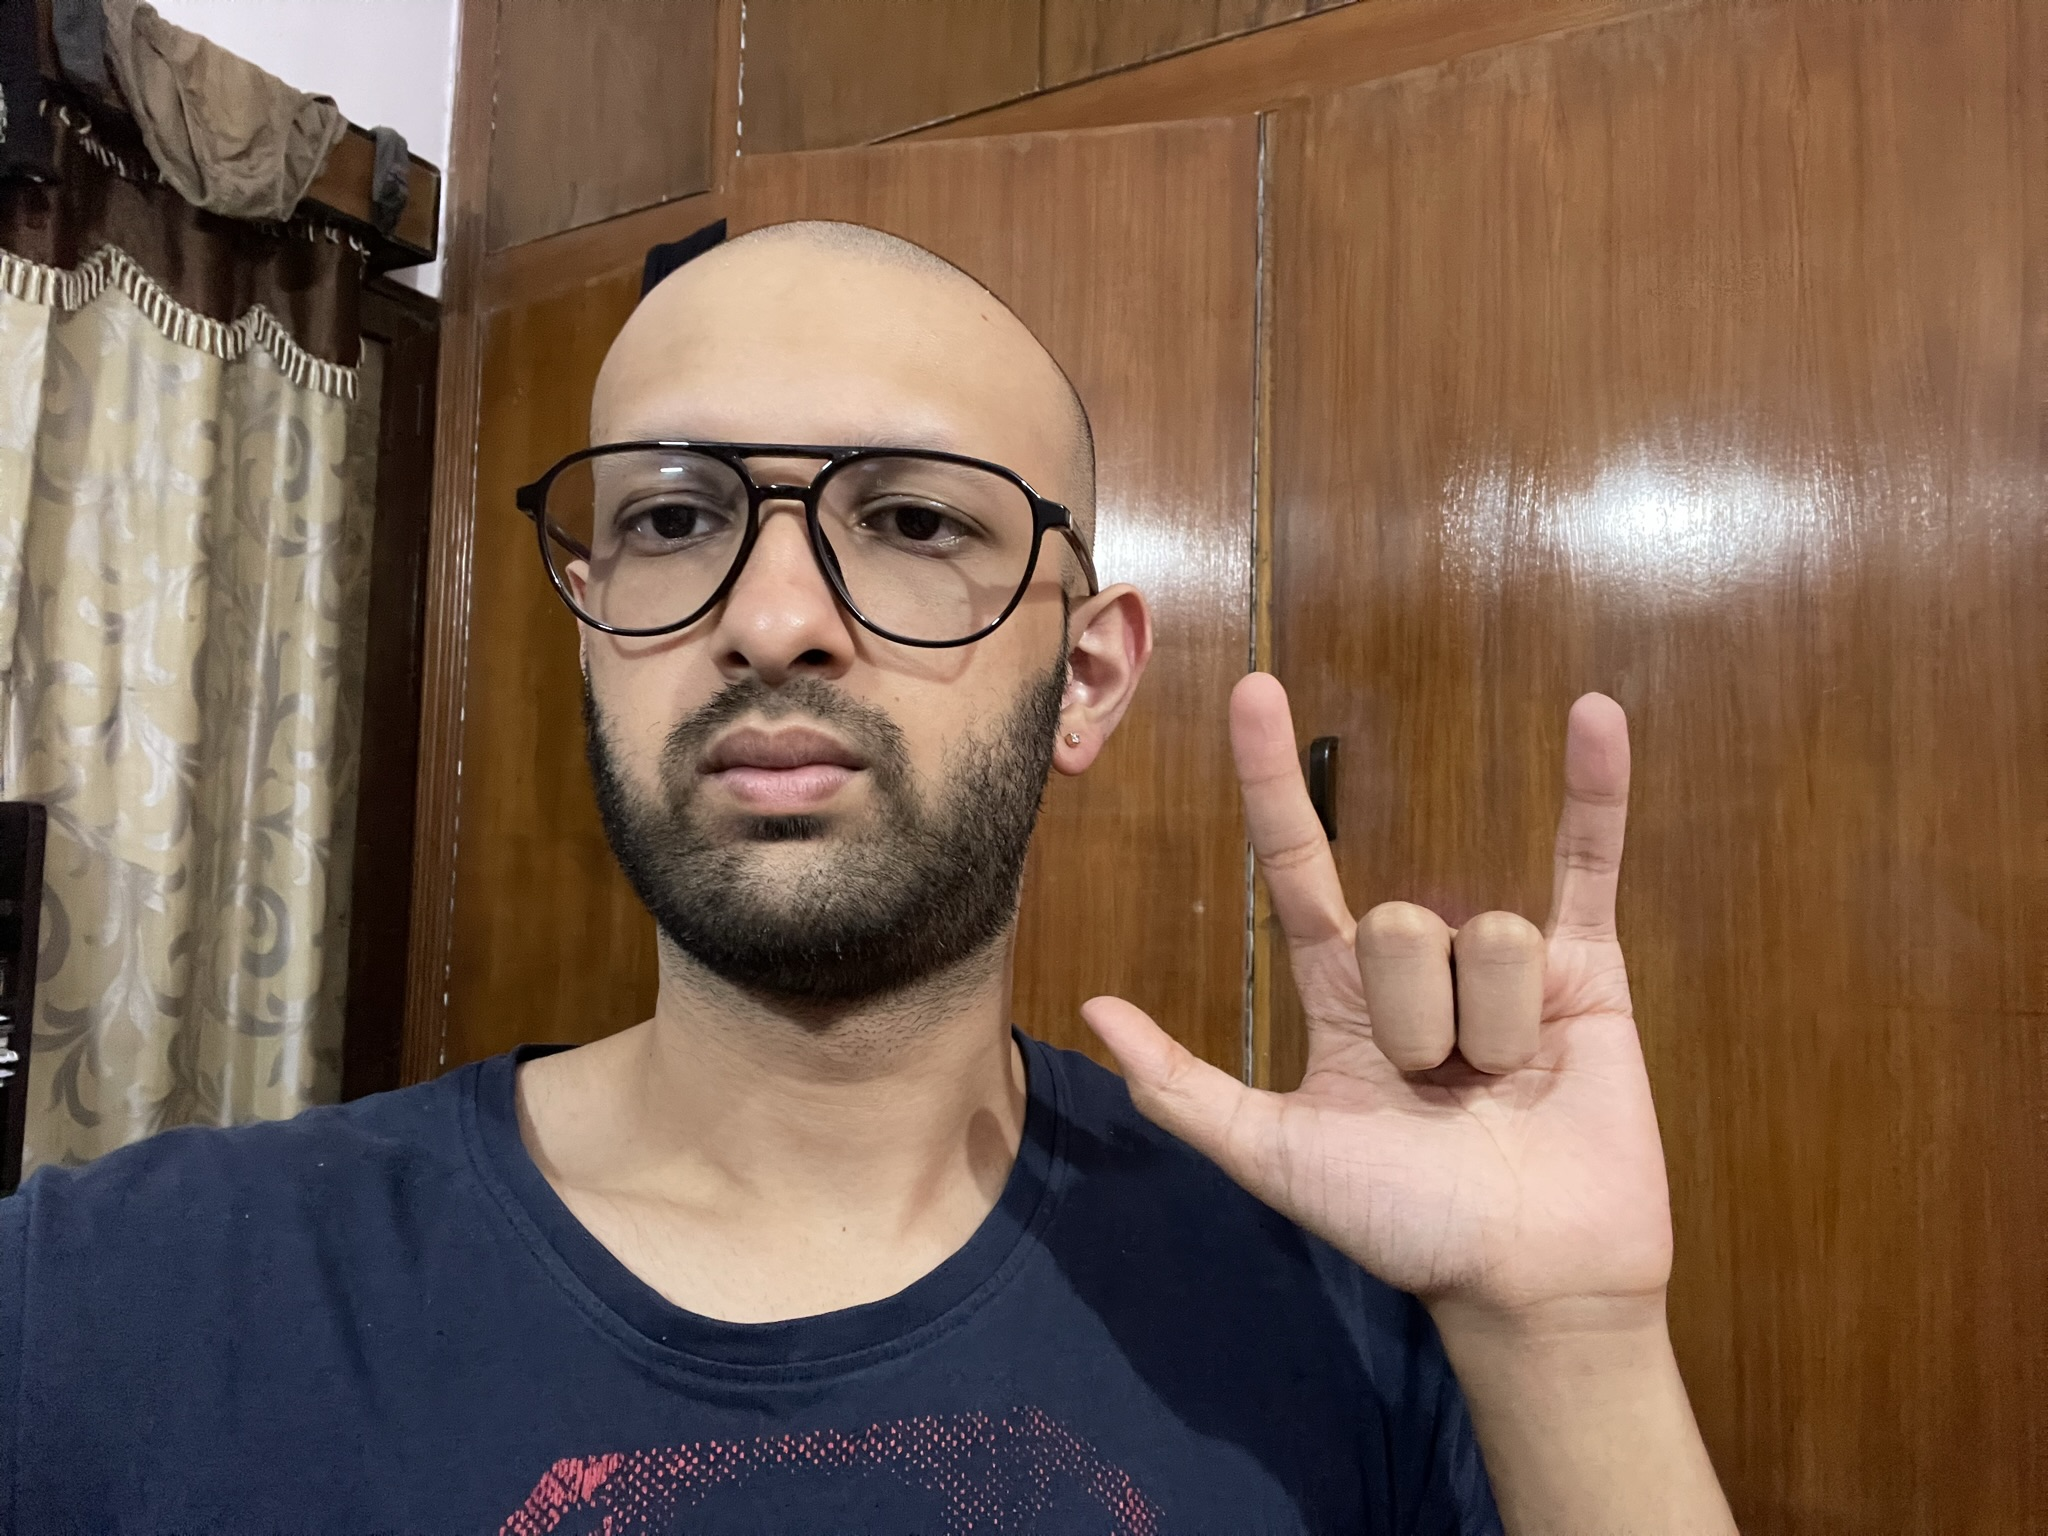I Love You: (1077, 668, 1679, 1326)
